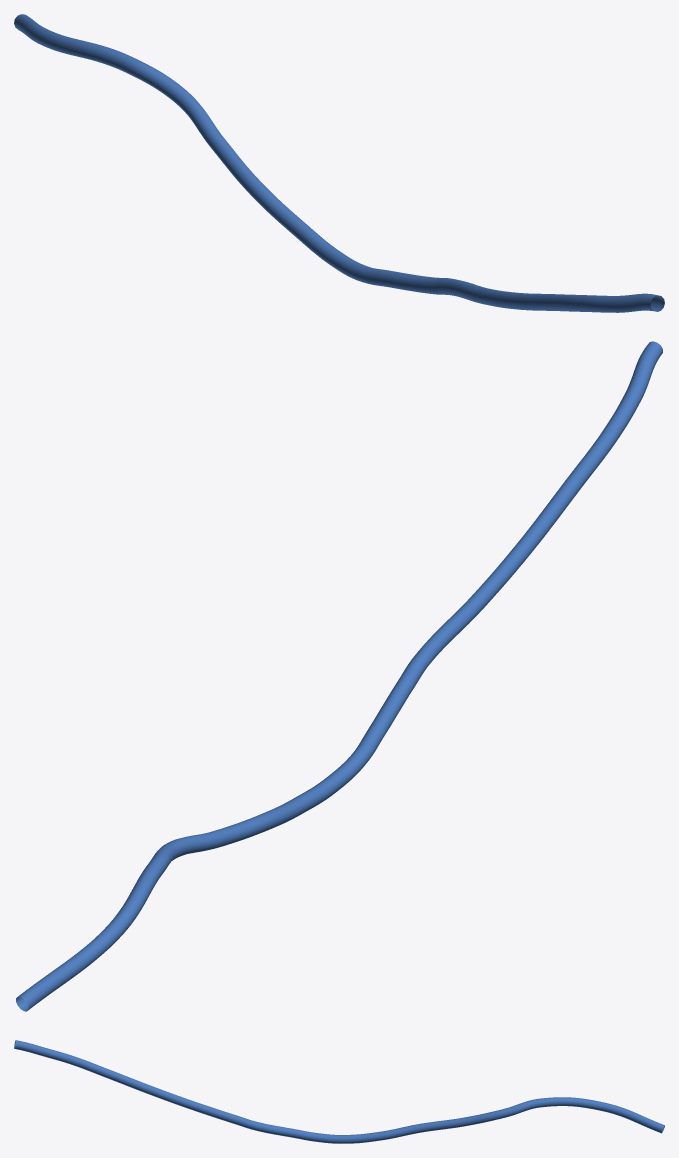
3 views of the same model, one above another, from view 1: azimuth 30°, elevation 25°; view 2: azimuth 150°, elevation 25°; view 3: azimuth 270°, elevation 25° (orthographic). The views are drawn at different scales.
Visible parts, largest first — view 1: 左腰升静脉; view 2: 左腰升静脉; view 3: 左腰升静脉.
Part boxes in pixels (x1=…): 左腰升静脉: x1=14, y1=14, x2=664, y2=312; 左腰升静脉: x1=16, y1=341, x2=662, y2=1011; 左腰升静脉: x1=14, y1=1040, x2=664, y2=1143.
Bounding box in the file's own units: 0.0155 × 0.046 × 0.2601.
